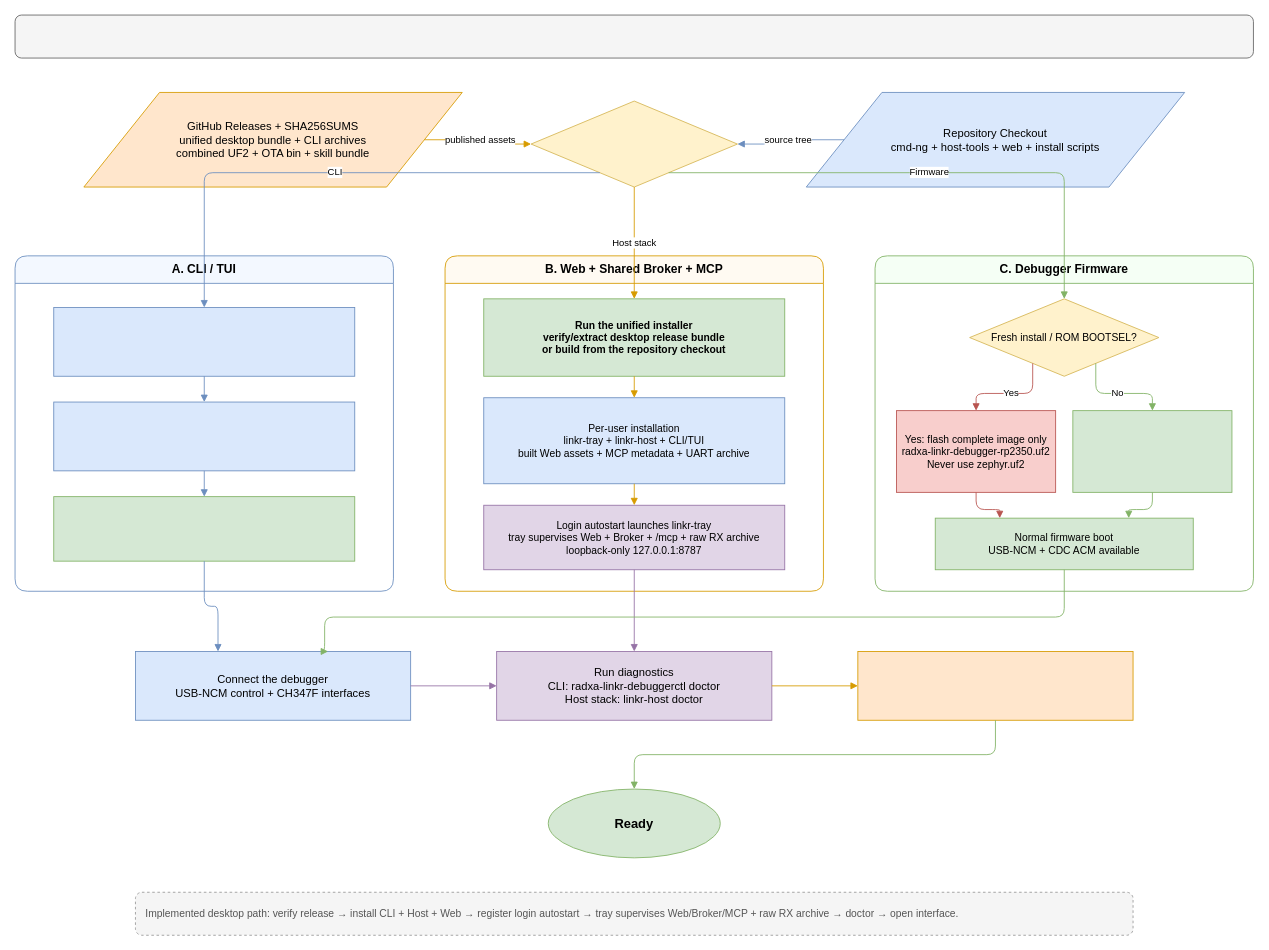
Some shapes in this 1269 by 950 pixel diagram are drawn without their labels. The centre of each missing label's shape, as x and y in pixels:
"No: MCUboot OTA radxa-linkr-debugger-rp2350-ota.bin test then confirm" goes at point 1152,451.
"Open the interface CLI/TUI, Web :8787, or MCP :8787/mcp" goes at point 995,685.
"radxa-linkr-debuggerctl skill-local bin or PATH" goes at point 204,528.
"Run skill-local installer install.sh / install.ps1 or manually extract archive" goes at point 204,341.
"Unified Installation and First-Run Flow" goes at point 633,36.
"Verify SHA256SUMS macOS: clear quarantine after verification" goes at point 204,436.
"What needs to be installed?" goes at point 633,143.
